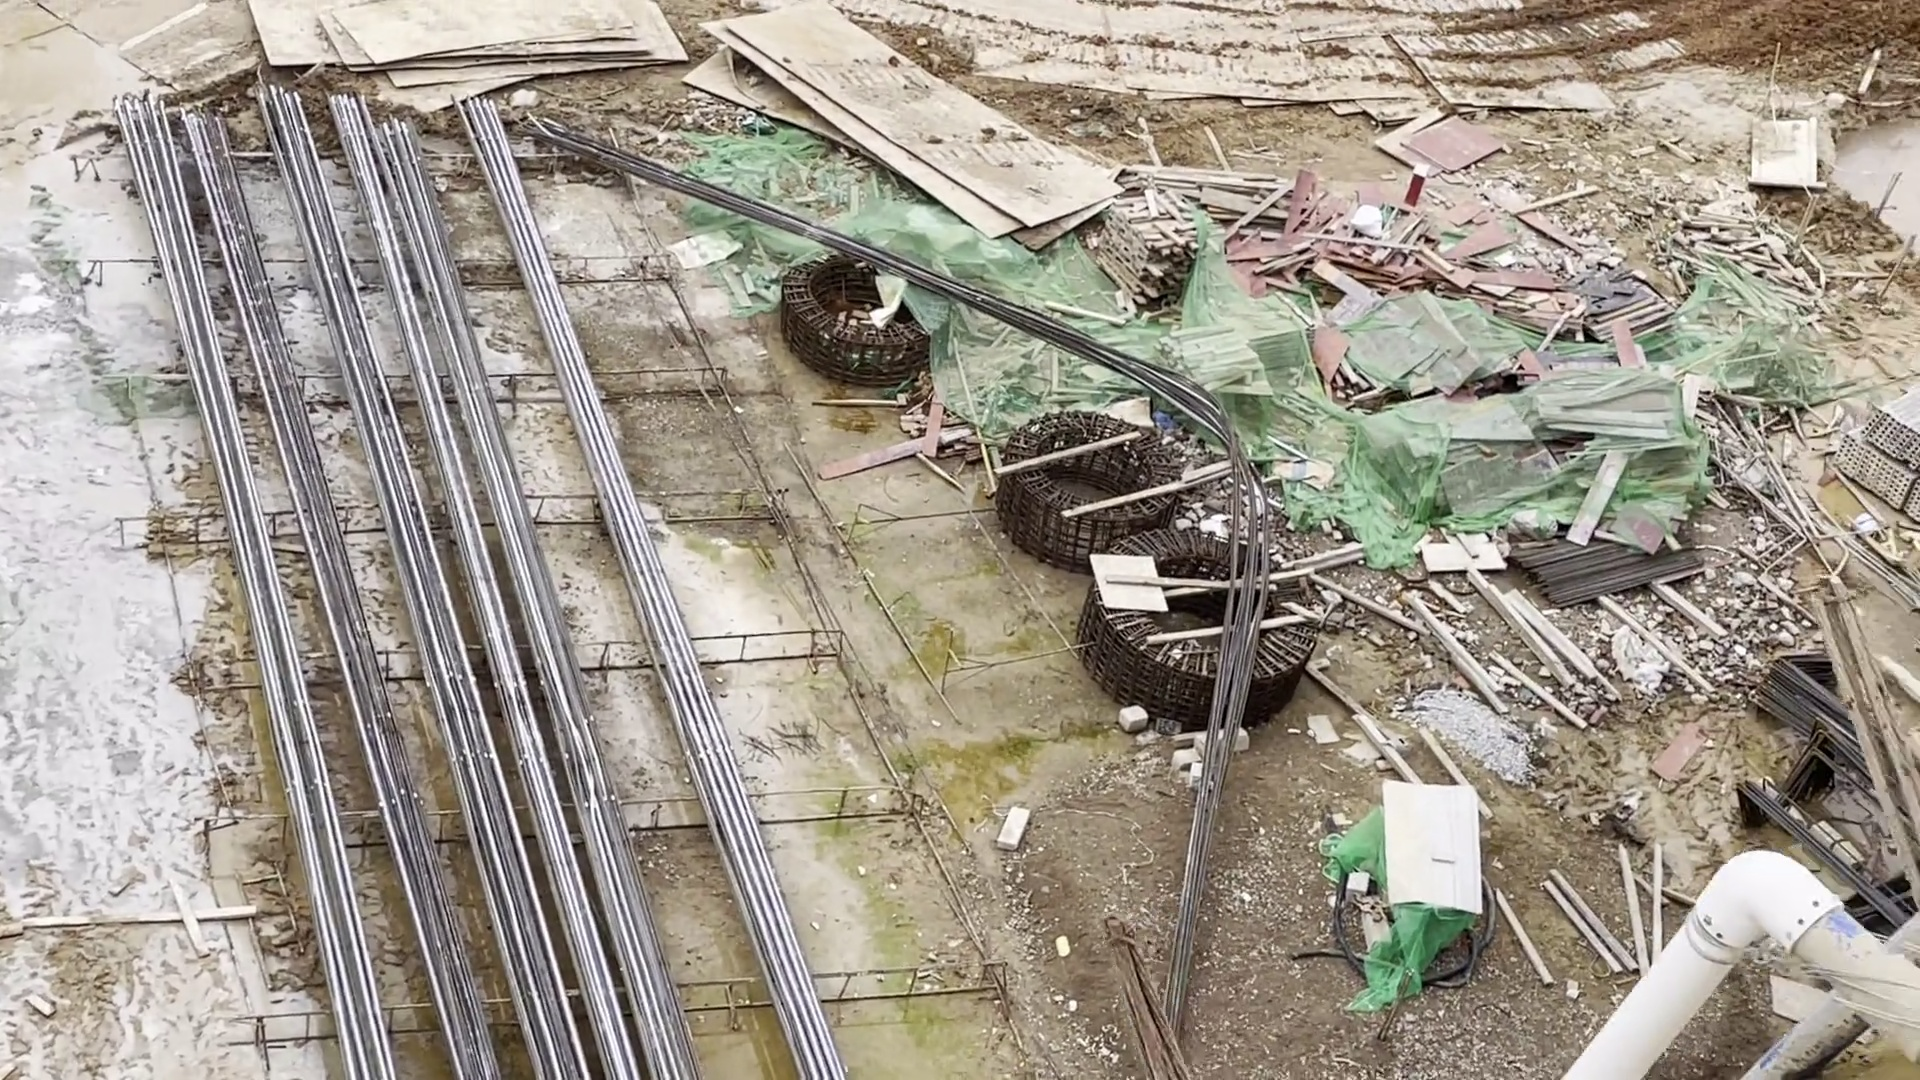board: (1276, 195, 1481, 293)
rebar: (120, 95, 669, 1080)
scaffold: (1818, 373, 1920, 547)
